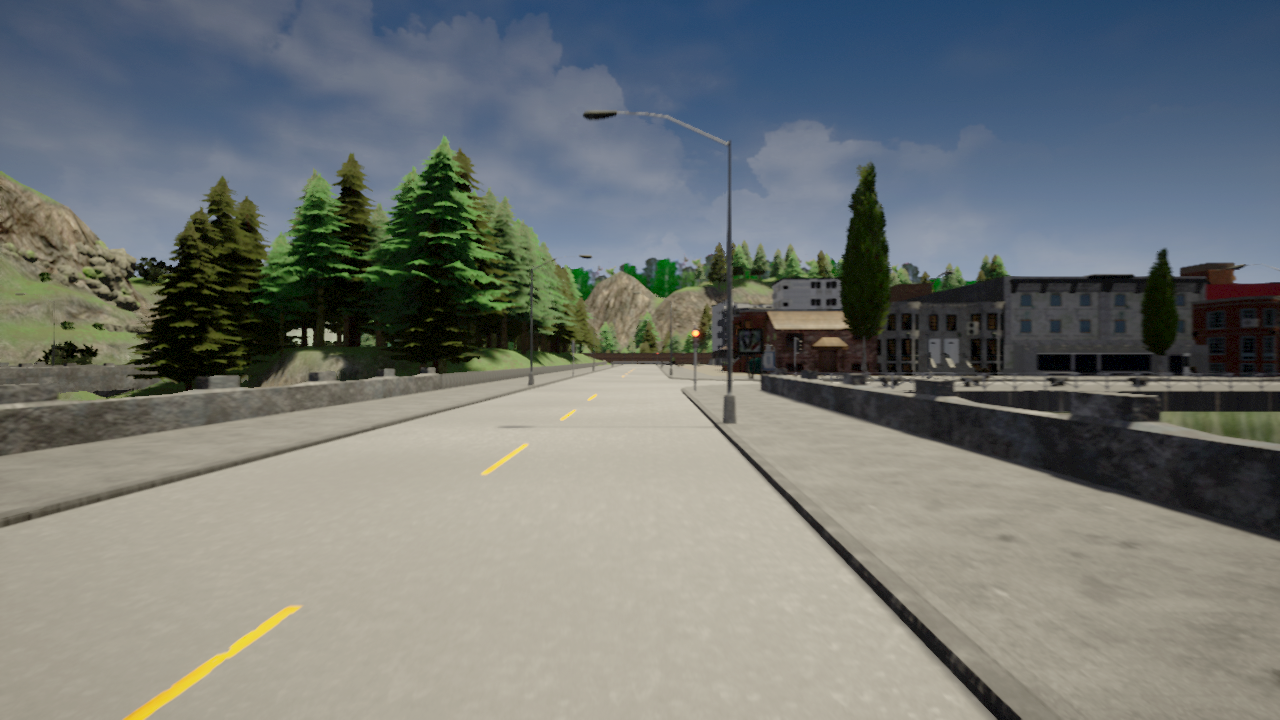red: (691, 328, 700, 350)
